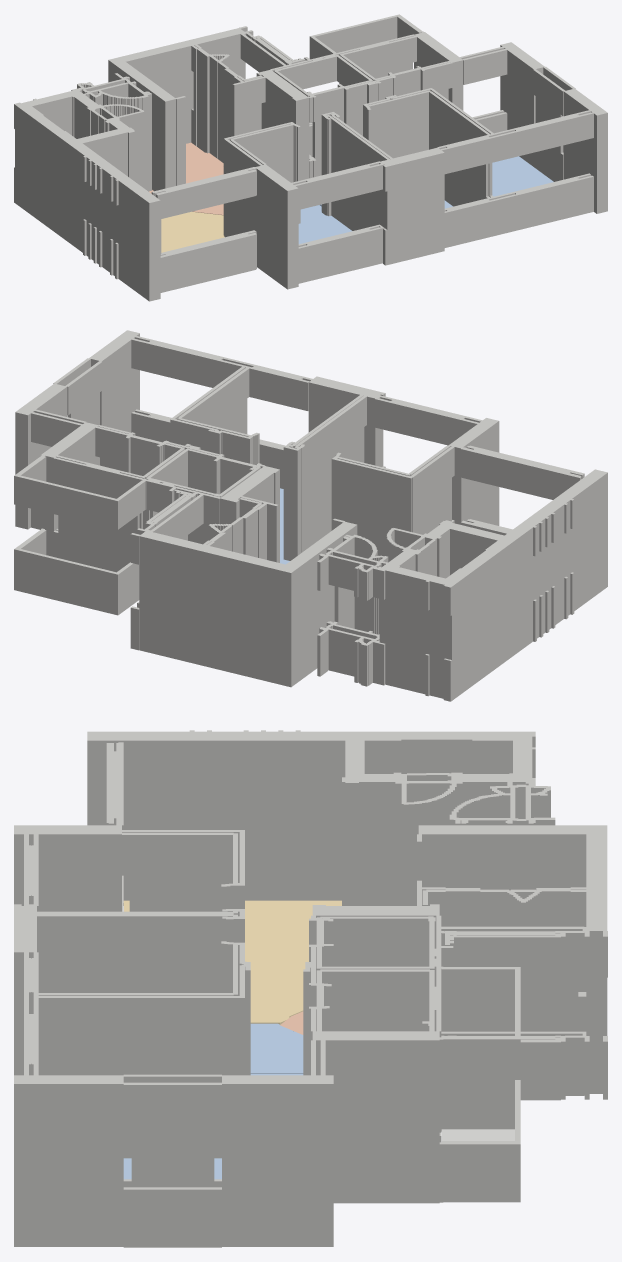
The picture shows the model from 3 angles, top to bottom: view 1: azimuth 30°, elevation 25°; view 2: azimuth 150°, elevation 25°; view 3: azimuth 270°, elevation 25°; orthographic projection. The views are drawn at different scales.
Parts seen in each view (by area): view 1: walls, room:living:9, room:bedroom:8, room:kitchen:0, room:bedroom:6; view 2: walls; view 3: walls, room:living:9, room:bedroom:6, room:ledge:3.
Part boxes in pixels (<box>): walls: <box>14,14,607,301</box>; room:living:9: <box>161,211,224,252</box>; room:bedroom:8: <box>492,156,553,196</box>; room:kitchen:0: <box>149,142,223,215</box>; room:bedroom:6: <box>298,205,352,243</box>; walls: <box>14,330,607,701</box>; walls: <box>14,730,607,1247</box>; room:living:9: <box>123,900,341,1024</box>; room:bedroom:6: <box>250,1023,303,1073</box>; room:ledge:3: <box>441,1129,514,1140</box>.
Bounding box in the file's own units: 13.07 × 2.8 × 9.25.
